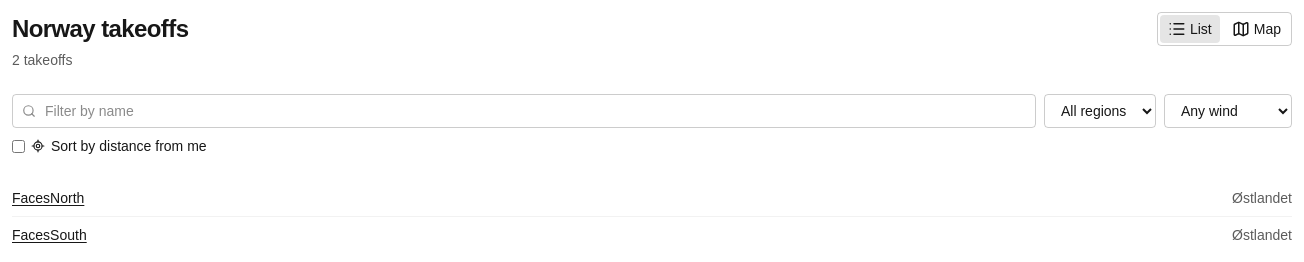
Test case: TakeoffDirectory — wind filter › choosing a direction narrows the rendered set to sites recorded to work in it
Check: the link "FacesNorth" is shown, box left=12, top=188, right=84, bottom=208
Check: the link "FacesSouth" is shown, box left=12, top=225, right=87, bottom=245
Select "Works in N" in the dropdown named "wind direction": (1228, 111) left=1164, top=94, right=1292, bottom=128
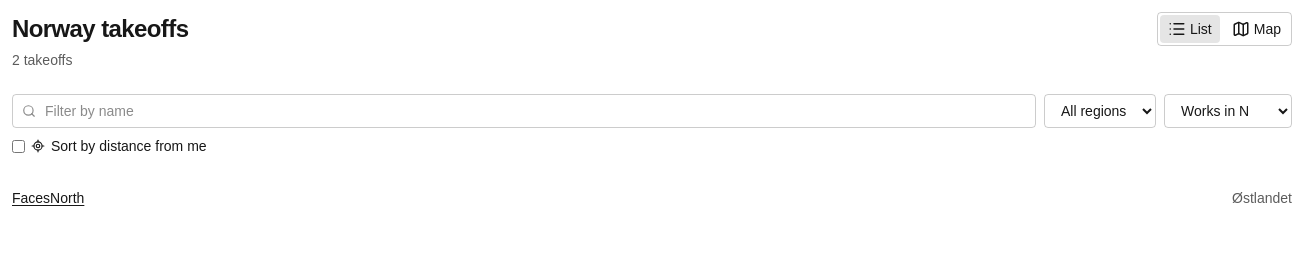
Check: the link "FacesNorth" is shown, box left=12, top=188, right=84, bottom=208
Check: the link "FacesSouth" is gone
